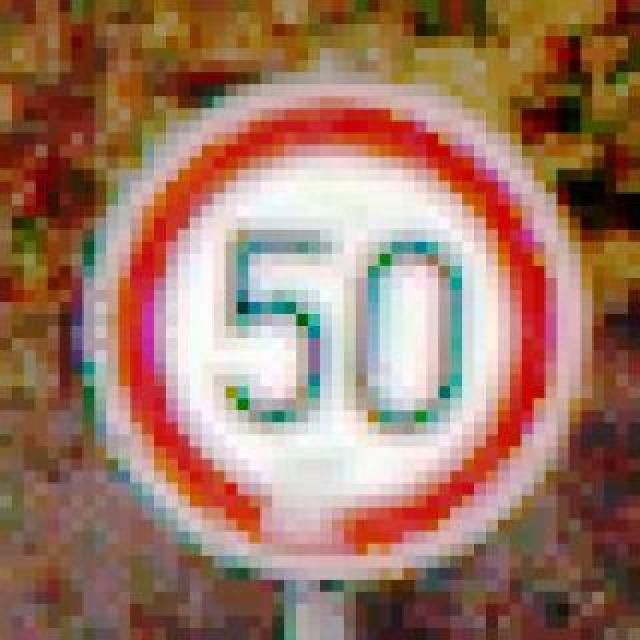50 kph: (84, 60, 558, 568)
